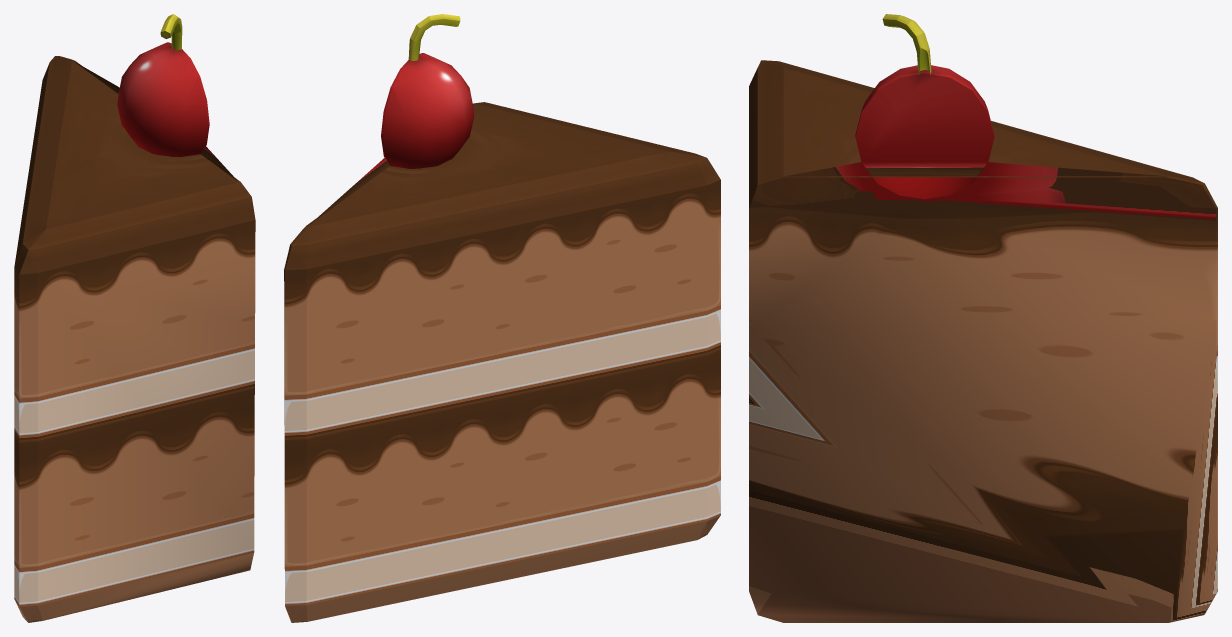
File: cake01.fbx
3 views of the same model, side by side, from view 1: azimuth 30°, elevation 25°; view 2: azimuth 150°, elevation 25°; view 3: azimuth 270°, elevation 25° (orthographic). The views are drawn at different scales.
Parts seen in each view (by area): view 1: Cake.001; view 2: Cake.001; view 3: Cake.001.
Part boxes in pixels (x1=…): Cake.001: x1=14, y1=14, x2=255, y2=622; Cake.001: x1=284, y1=14, x2=720, y2=622; Cake.001: x1=749, y1=14, x2=1217, y2=622.
Bounding box in the file's own units: 10.69 × 22.6 × 16.08.
